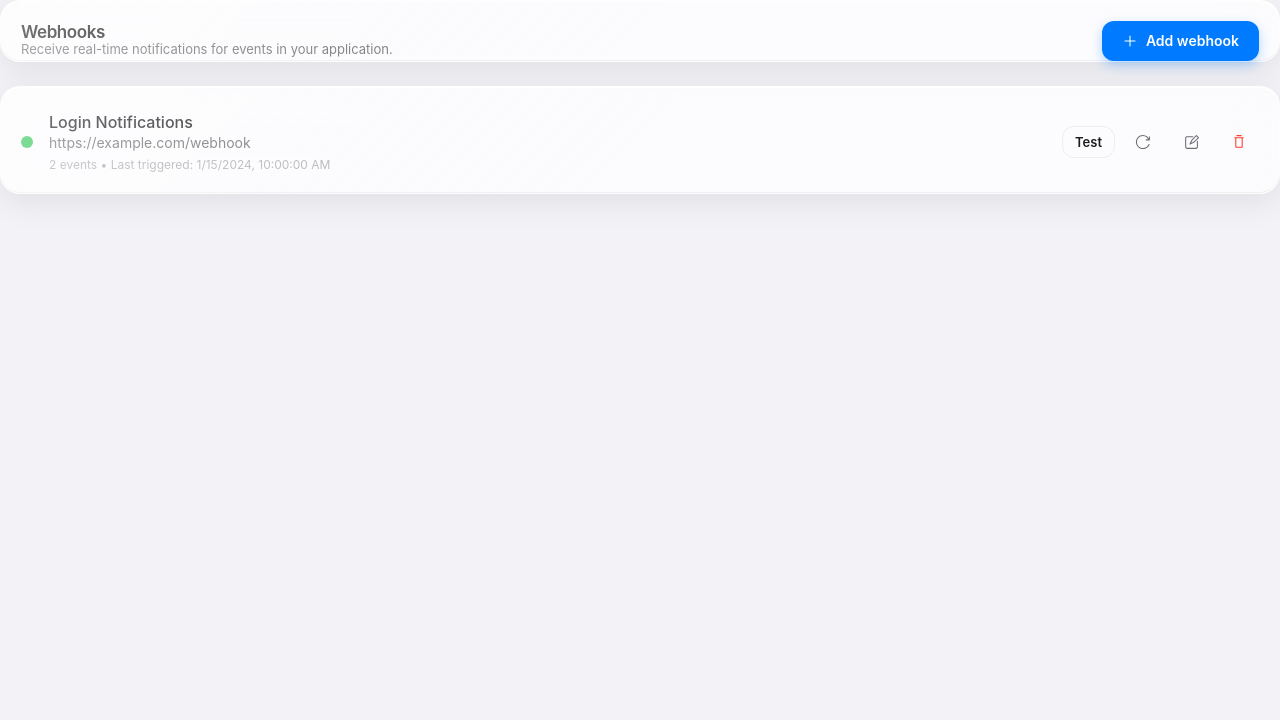
it: Webhooks Page › create webhook dialog › opens create dialog when 'Add webhook' header button is clicked
Expected: the text "Login Notifications" is shown, [49, 112, 193, 132]
Step 1. Click the button "Add webhook" → (1180, 41), box [1102, 21, 1259, 61]
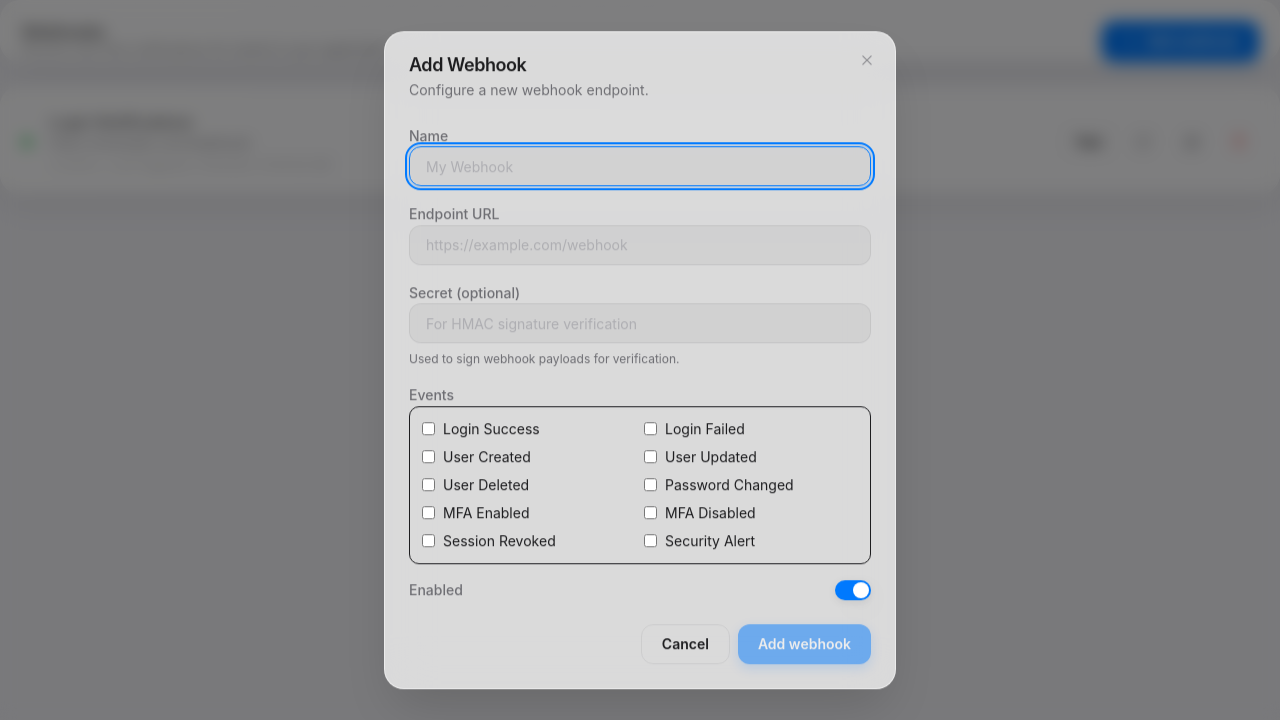
Now the dialog is shown, box [384, 31, 896, 689]
Now the heading "Add Webhook" is shown, box [409, 54, 526, 75]
Now the text "Configure a new webhook endpoint." is shown, box [409, 81, 649, 98]
